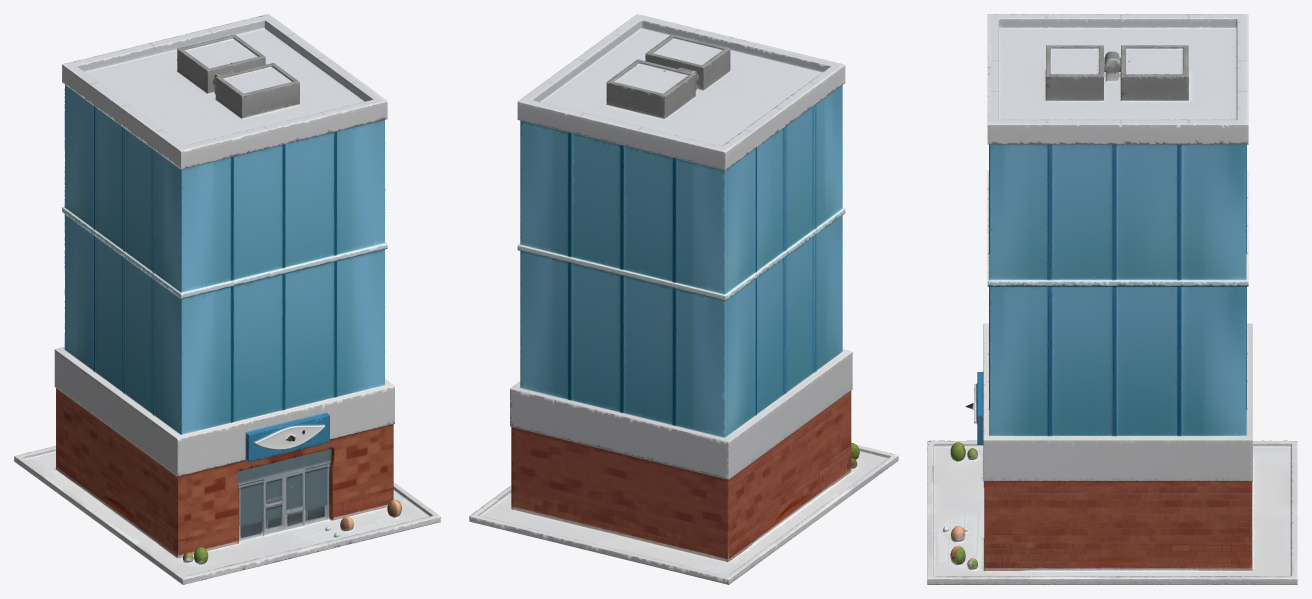
File: frank-eden-aquarium.glb
3 renders of one model, left to right at view 1: azimuth 30°, elevation 25°; view 2: azimuth 150°, elevation 25°; view 3: azimuth 270°, elevation 25°, orthographic. The views are drawn at different scales.
Size of the model in its own units: 1.22 by 1.9 by 1.38.
Materials: 1 (1 with a texture image).
